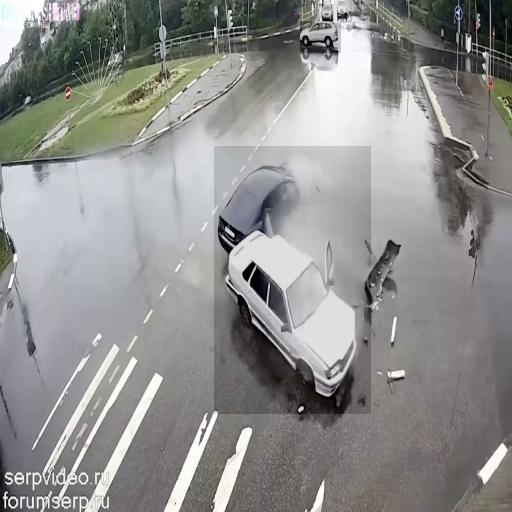小汽车: (300, 22, 341, 54), (334, 0, 352, 23), (321, 4, 334, 22)
小汽车撞小汽车: (214, 146, 371, 414)
